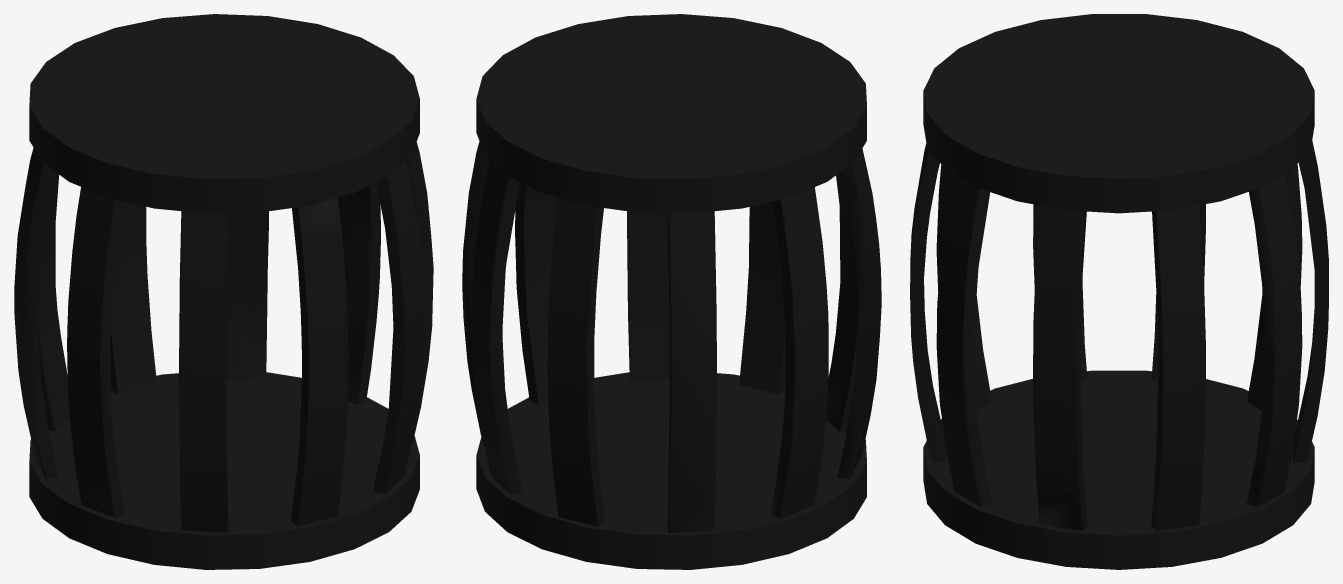
File: Small table.FBX
The picture shows the model from 3 angles, left to right: view 1: azimuth 30°, elevation 25°; view 2: azimuth 150°, elevation 25°; view 3: azimuth 270°, elevation 25°; orthographic projection.
Parts seen in each view (by area): view 1: small table; view 2: small table; view 3: small table.
Boxes of the visible parts, <box> form: small table: <box>14,14,433,569</box>; small table: <box>462,14,881,569</box>; small table: <box>910,14,1328,569</box>.
Size of the model in its own units: 42.59 by 44.53 by 43.23.
Materials: 1 (1 with a texture image).
